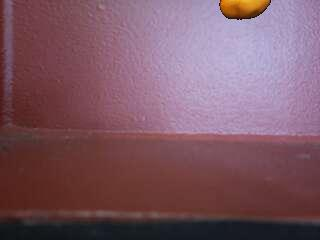Potato: (219, 0, 271, 21)
